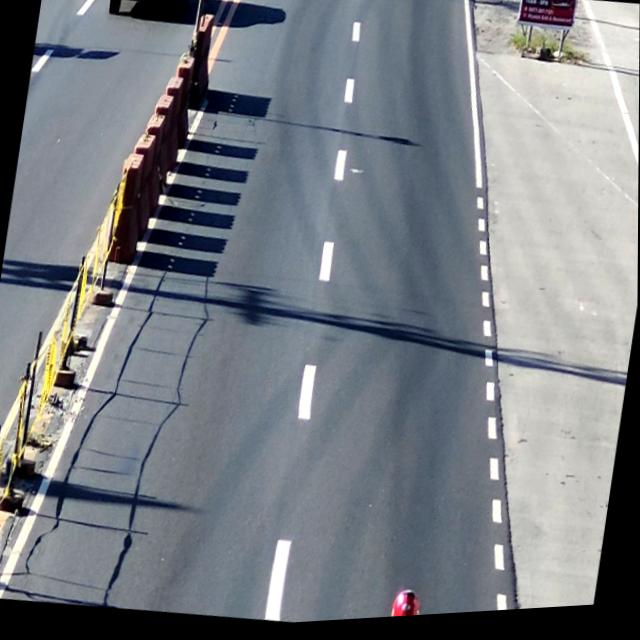Motorcycle: (377, 585, 431, 622)
